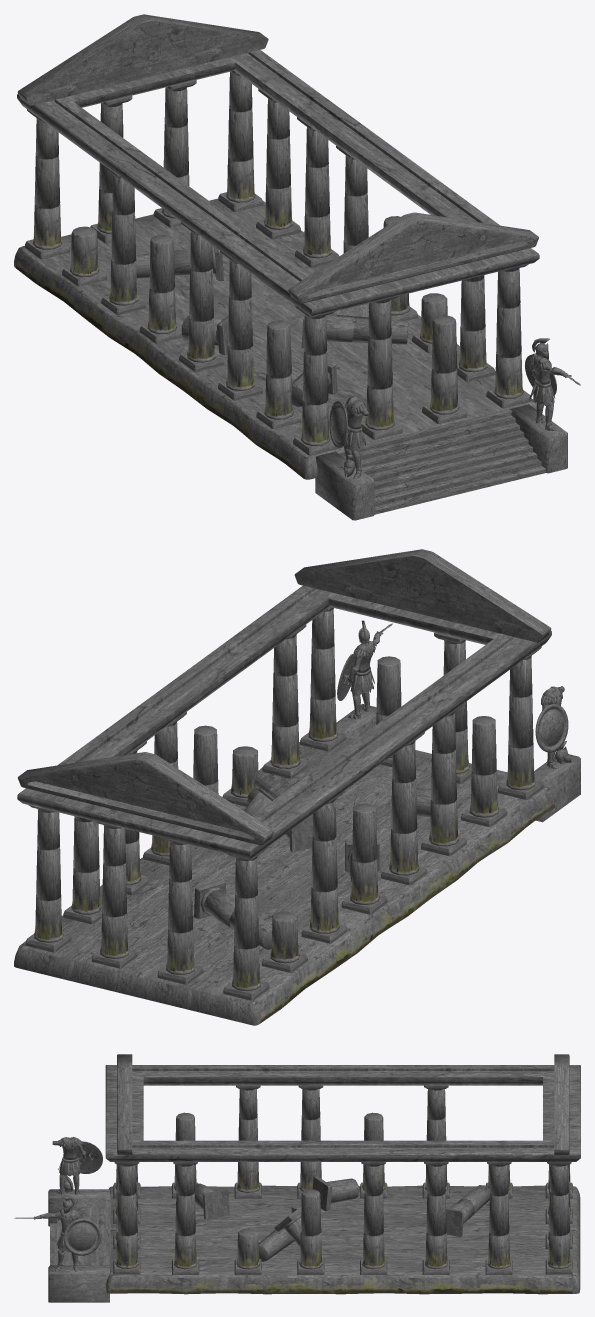
The model's file is temple_wmoss.glb.
The picture shows the model from 3 angles, top to bottom: view 1: azimuth 30°, elevation 25°; view 2: azimuth 150°, elevation 25°; view 3: azimuth 270°, elevation 25°; orthographic projection. The views are drawn at different scales.
Visible parts, largest first — view 1: Cube.006, Cube.001, Cube, Cube.007, Plane, Cube.002, Cube.008, decalbottom0029_1_s.002, Sparta_1.002, Sparta_1.001, Ruin 1.004, Ruin 1.005 (+2 smaller); view 2: Cube.006, Cube, Cube.001, Cube.007, Cube.002, decalbottom0029_1_s.002, Cube.008, Sparta_1.001, Sparta_1.002, Ruin 1.005, Ruin 1.004, Ruin 2.003; view 3: Cube, Cube.001, Cube.006, decalbottom0029_1_s.001, Cube.008, Cube.007, Cube.002, Sparta_1.001, Plane, Sparta_1.002, Ruin 1.005, Ruin 2.002 (+3 smaller).
Part boxes in pixels (x1,y1,x2,y2): Cube.006: (27, 71, 528, 445); Cube.001: (17, 50, 539, 317); Cube: (14, 198, 537, 479); Cube.007: (17, 14, 538, 303); Plane: (328, 407, 545, 514); Cube.002: (25, 192, 531, 455); Cube.008: (315, 404, 567, 520); decalbottom0029_1_s.002: (16, 262, 304, 478); Sparta_1.002: (329, 396, 368, 478); Sparta_1.001: (525, 338, 580, 430); Ruin 1.004: (301, 314, 408, 347); Ruin 1.005: (136, 245, 223, 280); Cube.006: (28, 607, 541, 991); Cube: (14, 737, 554, 1025); Cube.001: (17, 585, 551, 859); Cube.007: (18, 549, 551, 845); Cube.002: (25, 731, 543, 1000); decalbottom0029_1_s.002: (260, 801, 554, 1023); Cube.008: (336, 704, 580, 822); Sparta_1.001: (337, 620, 392, 719); Sparta_1.002: (535, 686, 571, 769); Ruin 1.005: (194, 879, 272, 949); Ruin 1.004: (247, 787, 312, 852); Ruin 2.003: (244, 777, 280, 815); Cube: (106, 1185, 580, 1294); Cube.001: (105, 1065, 580, 1161); Cube.006: (114, 1085, 571, 1269); decalbottom0029_1_s.001: (109, 1278, 572, 1294); Cube.008: (48, 1189, 109, 1302); Cube.007: (117, 1054, 569, 1154); Cube.002: (113, 1182, 572, 1274); Sparta_1.001: (14, 1196, 101, 1271); Plane: (50, 1194, 110, 1267); Sparta_1.002: (52, 1137, 102, 1195); Ruin 1.005: (446, 1185, 489, 1236); Ruin 2.002: (312, 1176, 359, 1211).
Size of the model in its own units: 19.31 by 18.52 by 48.58.
4 materials, 4 textured.
